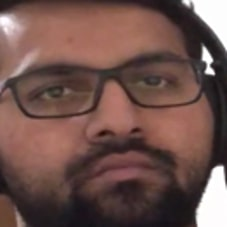drowsy: (11, 44, 203, 202)
